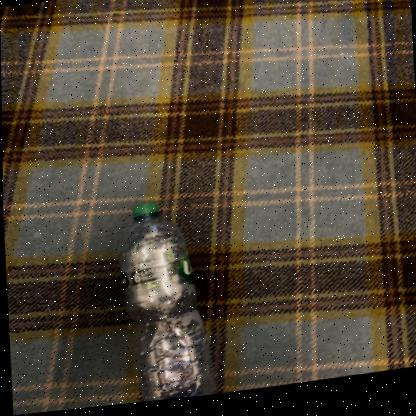Plastic: (119, 207, 215, 405)
